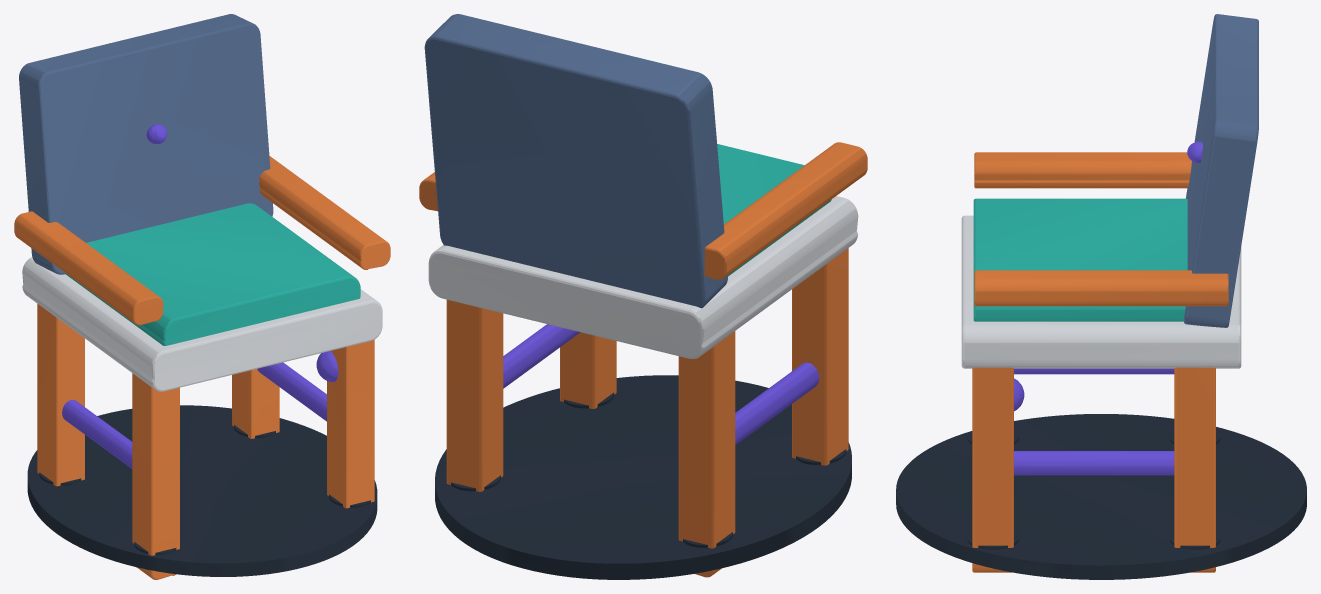
Rendered from 0966_农业科技图鉴_蘑菇工厂.glb.
3 renders of one model, left to right at view 1: azimuth 30°, elevation 25°; view 2: azimuth 150°, elevation 25°; view 3: azimuth 270°, elevation 25°, orthographic. The views are drawn at different scales.
Visible parts, largest first — view 1: card_0966; view 2: card_0966; view 3: card_0966.
Boxes of the visible parts, box(x1,y1,x2,y2) form: card_0966: box(14, 14, 390, 579); card_0966: box(419, 14, 867, 579); card_0966: box(896, 14, 1306, 579).
Bounding box in the file's own units: 0.7218 × 1 × 0.8263.
